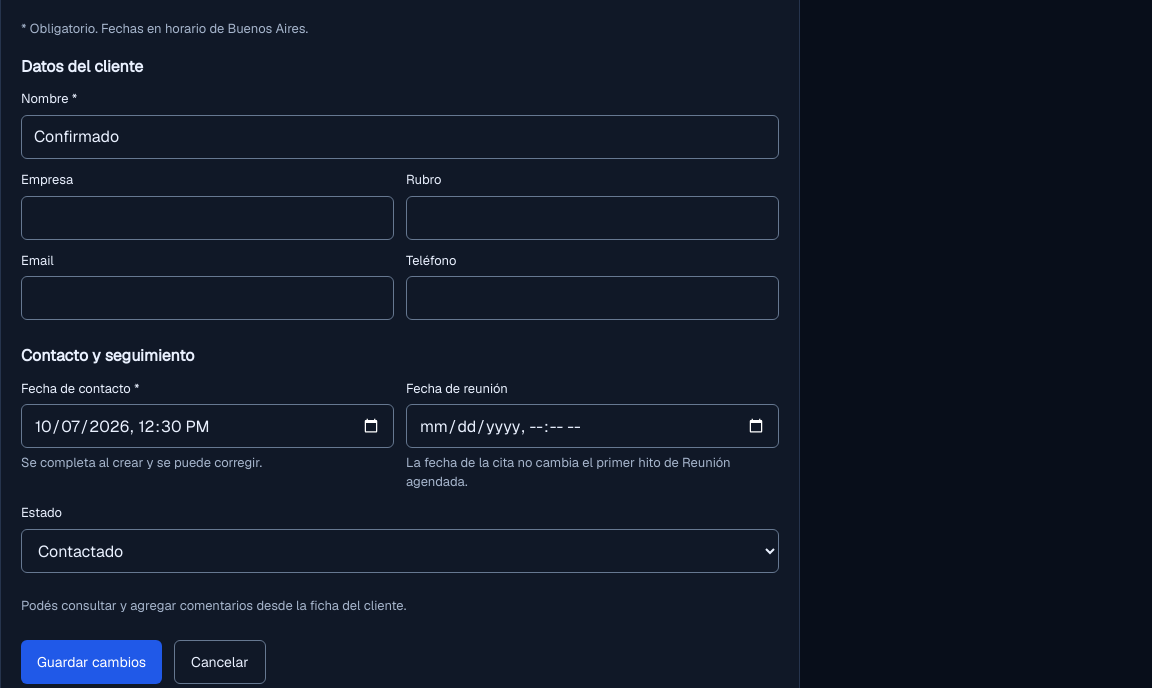
Scenario: approved client form interaction › fails closed when a conflict response has no valid confirmed client
The image size is (1152, 688).
(page scrolled)
Click the button "Guardar cambios": x=92, y=662 x1=21 y1=640 x2=162 y2=684
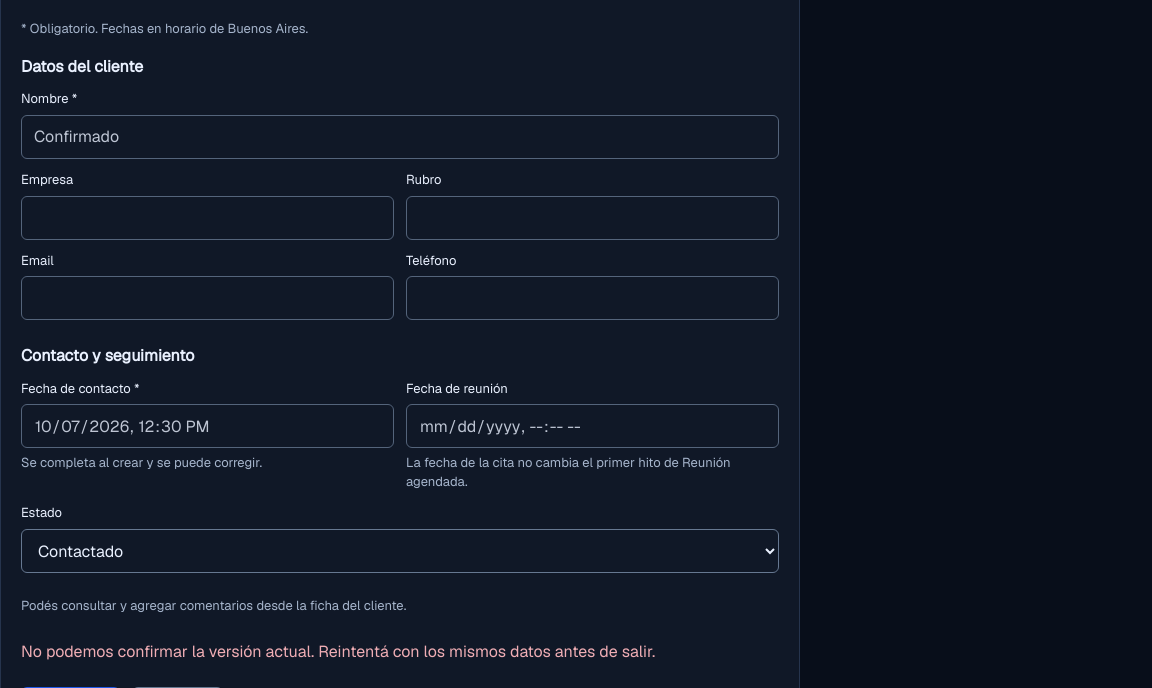
Expected: the message is shown, x1=21 y1=641 x2=655 y2=662
